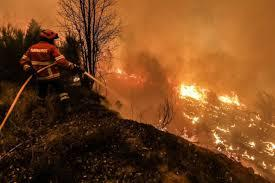fire: (182, 79, 274, 165), (112, 64, 144, 85)
